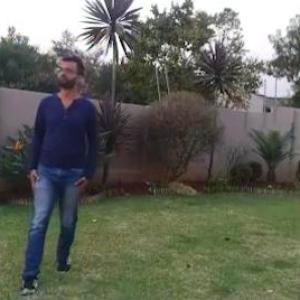follow: (15, 12, 104, 294)
